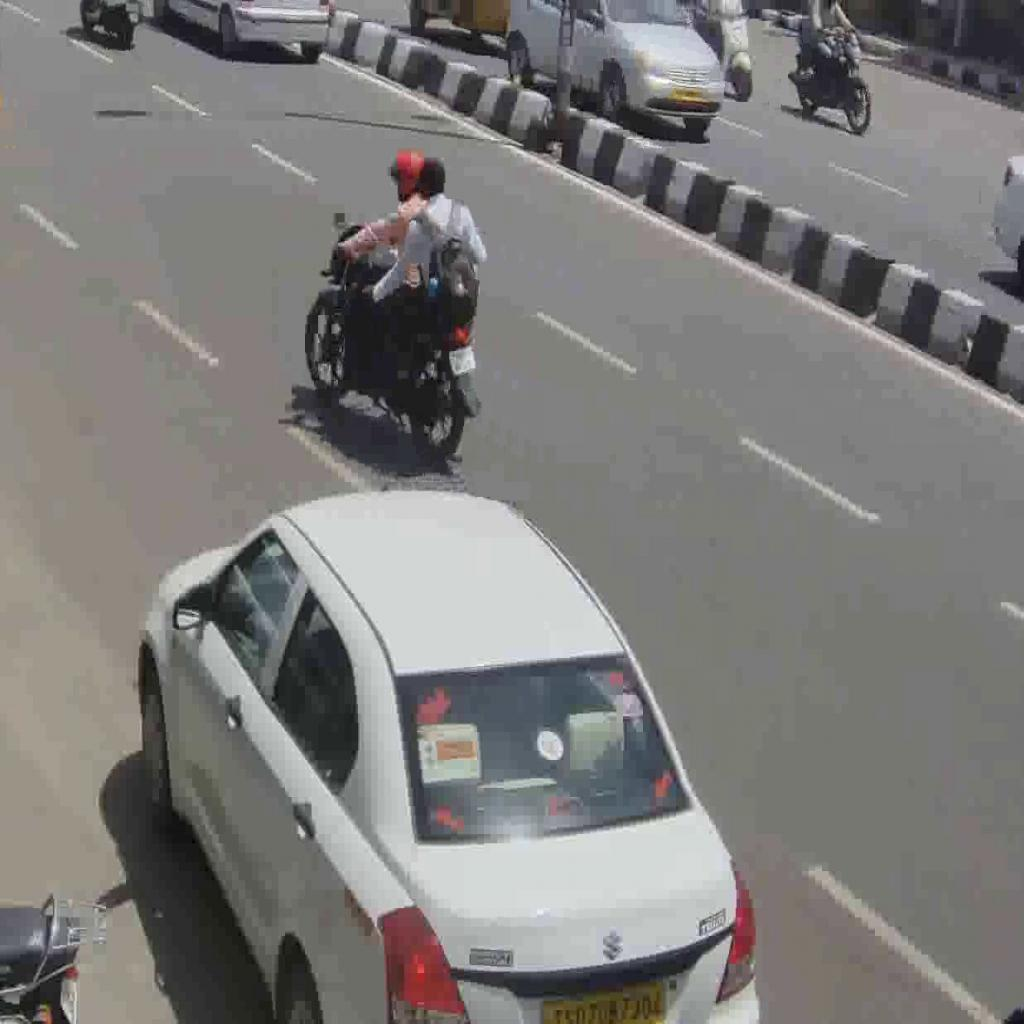bike: (300, 216, 479, 456)
helmet: (383, 141, 426, 205)
lisc: (445, 342, 476, 374)
no_helmet: (412, 153, 449, 207)
noise: (794, 8, 873, 135), (692, 0, 756, 103)
rider: (360, 154, 490, 389), (330, 143, 433, 389)
